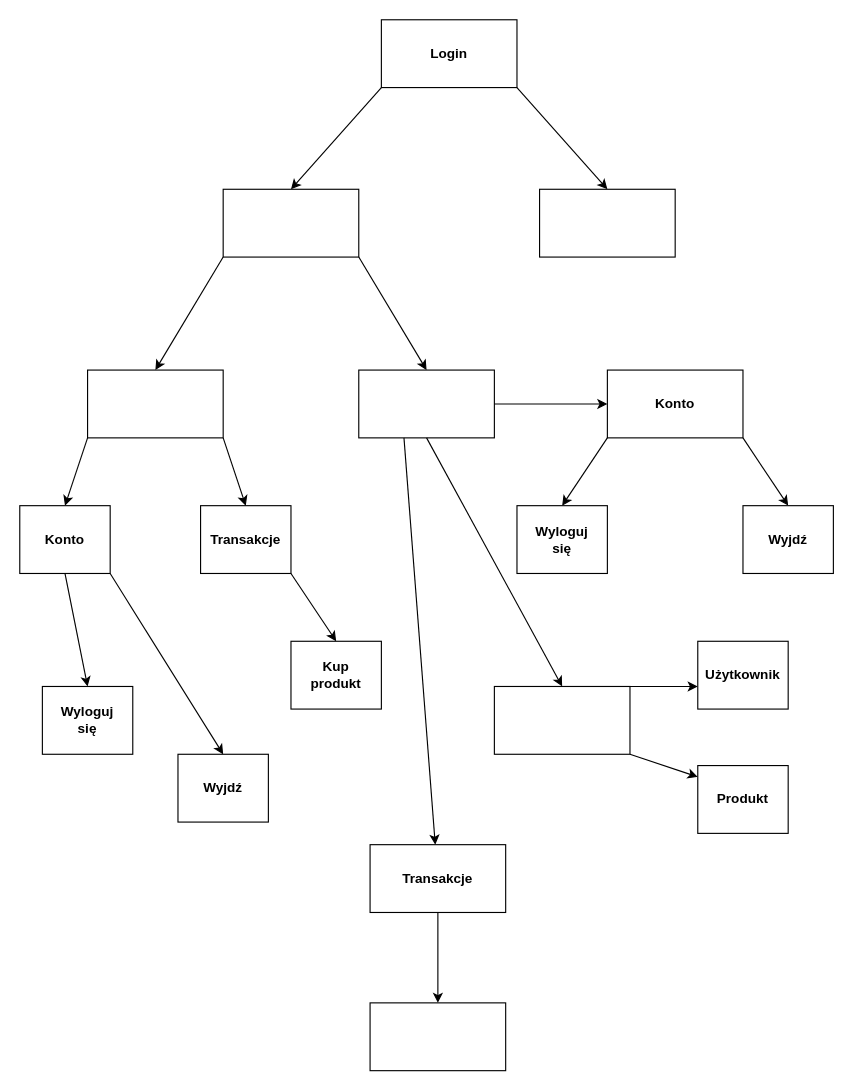
The diagram is 853 pixels wide and 1090 high, and some of its shapes have lost their labels. The shapes that lost their labels are listed below. From the top down, each one's box as (x1, y1, x2, y2) in pixels, then its label:
(222, 188, 359, 257): Zaloguj
(538, 188, 675, 257): Rejestracja
(86, 369, 223, 438): Menu Klienta
(358, 369, 494, 438): Panel Administratora
(493, 685, 630, 754): Zarządzaj
(369, 1002, 506, 1071): Pokaż Transakcje
